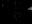person: (25, 6, 31, 11)
